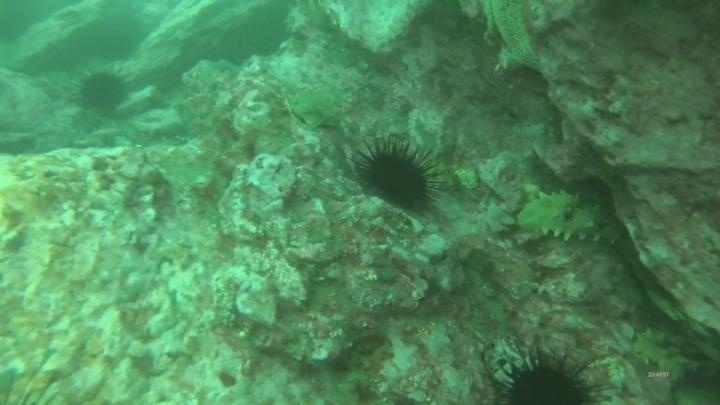echinus: (487, 343, 608, 404), (354, 137, 444, 215), (75, 66, 132, 114)
holothurian: (514, 187, 624, 250), (627, 325, 703, 385)
